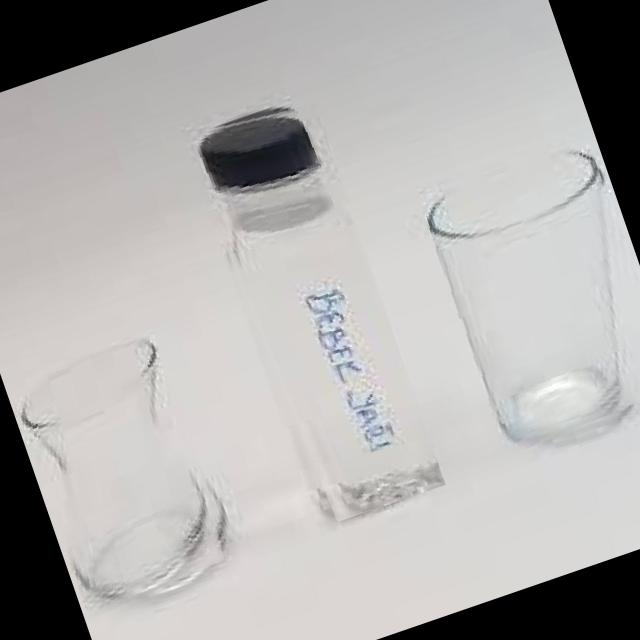Glass: (178, 91, 446, 530), (417, 137, 640, 457), (8, 329, 248, 622)
